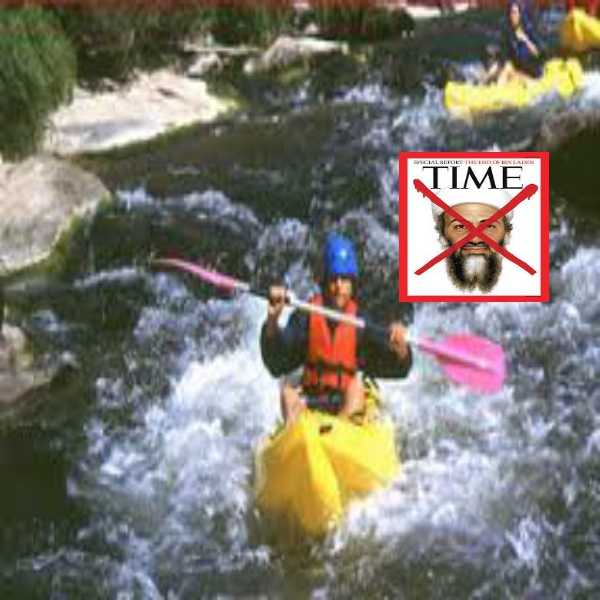time_cover: (392, 141, 559, 300)
